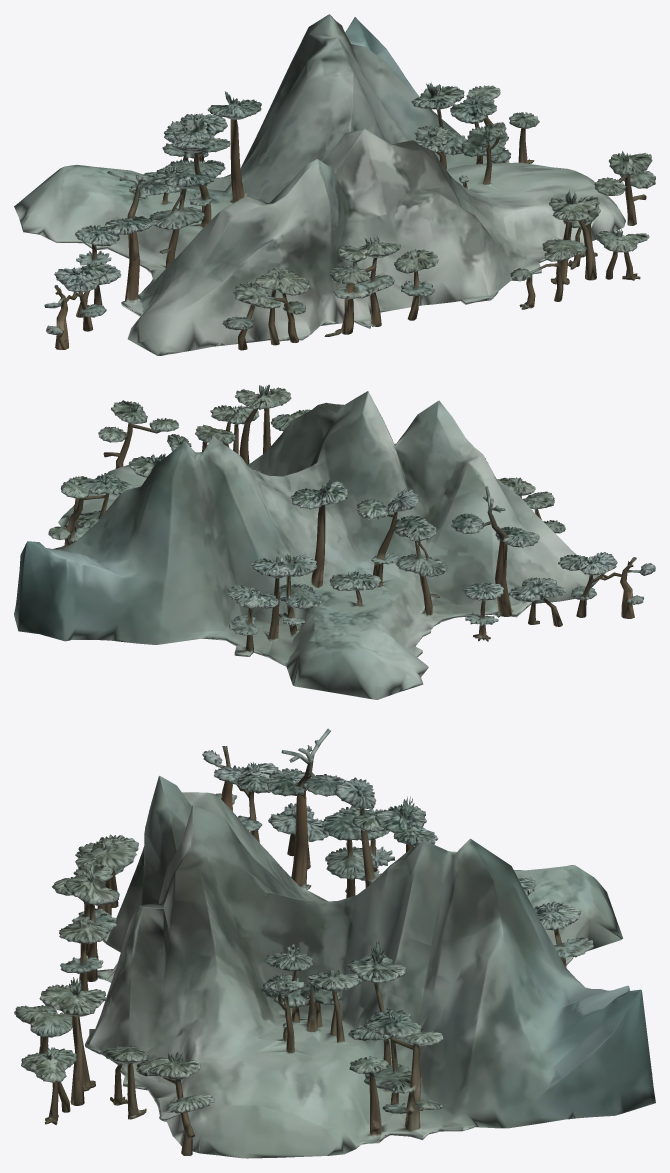
Rendered from fan_peaks.glb.
3 views of the same model, one above another, from view 1: azimuth 30°, elevation 25°; view 2: azimuth 150°, elevation 25°; view 3: azimuth 270°, elevation 25° (orthographic). The views are drawn at different scales.
Visible parts, largest first — view 1: tripo_node_2aa7b7e1-b2cf-4409-8527-e189ccc60948; view 2: tripo_node_2aa7b7e1-b2cf-4409-8527-e189ccc60948; view 3: tripo_node_2aa7b7e1-b2cf-4409-8527-e189ccc60948.
Part boxes in pixels (bbox=[...]): tripo_node_2aa7b7e1-b2cf-4409-8527-e189ccc60948: bbox=[14, 14, 655, 355]; tripo_node_2aa7b7e1-b2cf-4409-8527-e189ccc60948: bbox=[14, 384, 655, 699]; tripo_node_2aa7b7e1-b2cf-4409-8527-e189ccc60948: bbox=[14, 728, 655, 1158].
Bounding box in the file's own units: 0.9803 × 0.2686 × 0.7525.
Materials: 1 (1 with a texture image).
